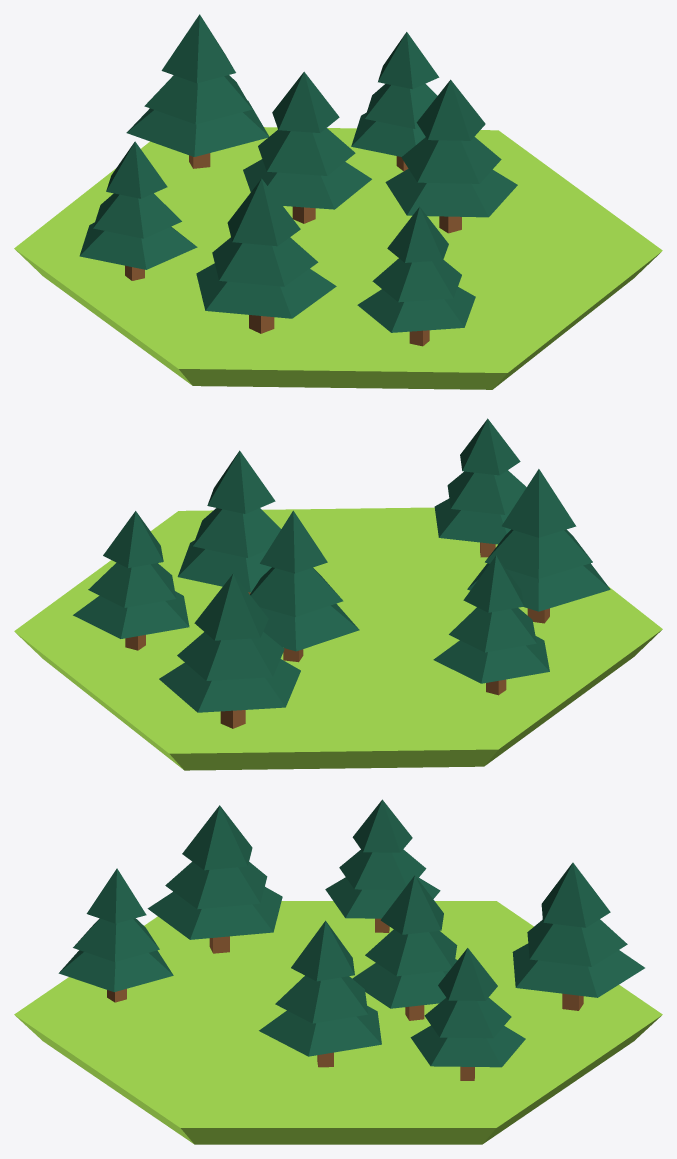
Rendered from G_F_Pine_3.fbx.
The picture shows the model from 3 angles, top to bottom: view 1: azimuth 30°, elevation 25°; view 2: azimuth 150°, elevation 25°; view 3: azimuth 270°, elevation 25°; orthographic projection. The views are drawn at different scales.
Visible parts, largest first — view 1: G_F_Pine; view 2: G_F_Pine; view 3: G_F_Pine.
Boxes of the visible parts, x1,y1,x2,y2 form: G_F_Pine: [14, 14, 662, 389]; G_F_Pine: [14, 418, 662, 770]; G_F_Pine: [14, 799, 662, 1144].
Size of the model in its own units: 3165 by 1112 by 3822.
